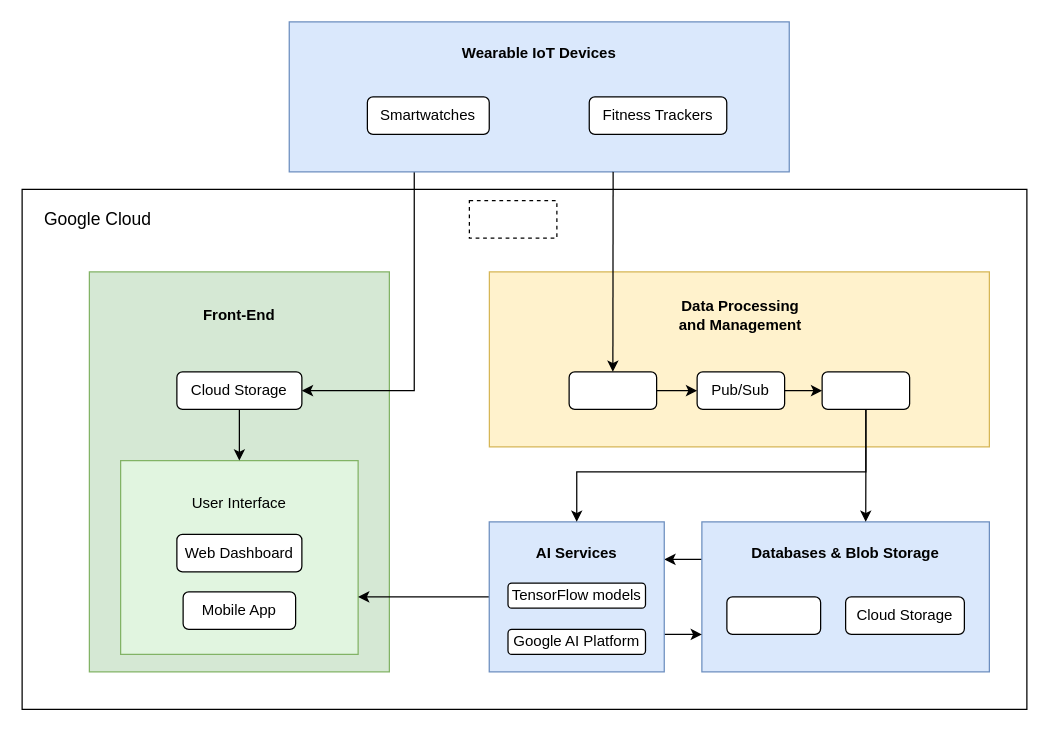
Some shapes in this 1049 by 731 pixel diagram are drawn without their labels. Each missing label, with the box of its shape:
BigQuery: (726, 596, 821, 634)
Dataflow: (821, 371, 910, 409)
health data: (468, 199, 557, 238)
IoT Core: (568, 371, 657, 409)
